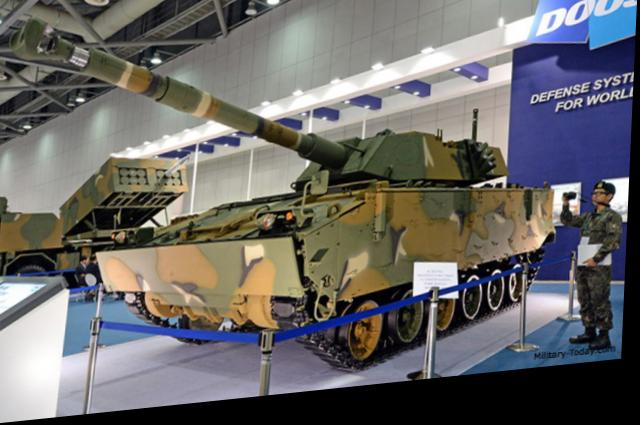other: (553, 176, 632, 372)
tank: (107, 122, 563, 361)
